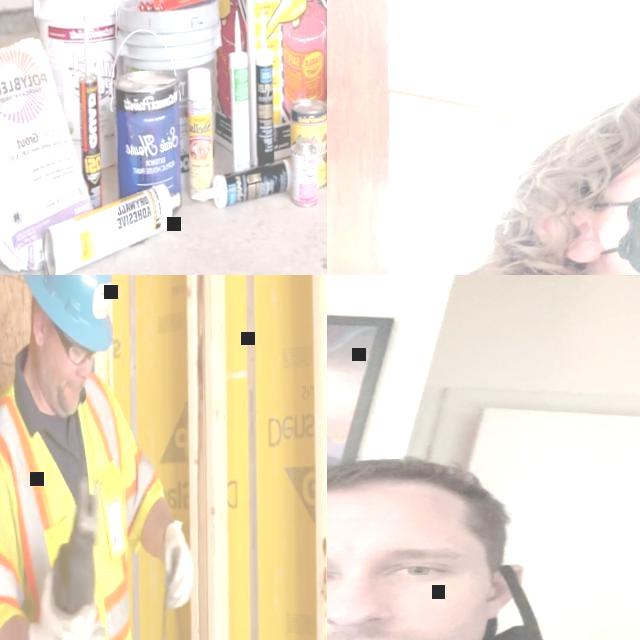helmet: (18, 275, 118, 352)
no_helmet: (327, 456, 524, 528), (559, 71, 640, 153)
no_mask: (327, 589, 522, 640), (44, 374, 80, 414)
person: (0, 275, 205, 640), (327, 68, 640, 275), (327, 448, 640, 640)
vest: (0, 364, 174, 640)
